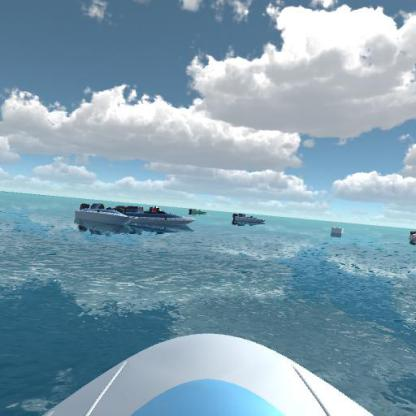usv0: (186, 204, 211, 218)
usv1: (121, 200, 200, 232), (75, 200, 133, 235), (231, 210, 269, 230)
usv3: (147, 204, 168, 216)
